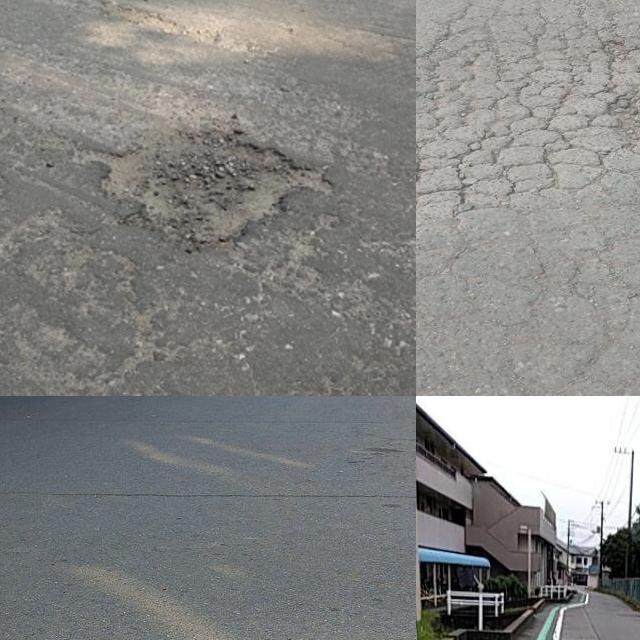Lubang: (89, 116, 324, 244)
Melintang: (0, 475, 416, 510)
Retak Buaya: (416, 0, 640, 231)
